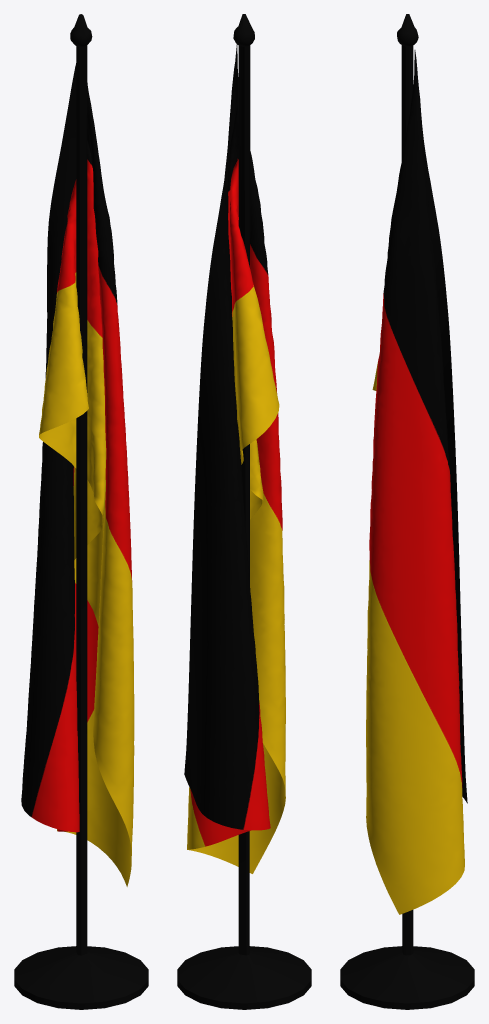
Rendered from German flag.fbx.
3 renders of one model, left to right at view 1: azimuth 90°, elevation 25°; view 2: azimuth 150°, elevation 25°; view 3: azimuth 330°, elevation 25°, orthographic.
Parts seen in each view (by area): view 1: German flag; view 2: German flag; view 3: German flag.
Boxes of the visible parts, box(x1,y1,x2,y2) form: German flag: box(14, 14, 148, 1009); German flag: box(177, 14, 311, 1009); German flag: box(340, 14, 474, 1009).
Bounding box in the file's own units: 27.62 × 214 × 26.96.
Materials: 2 (1 with a texture image).
